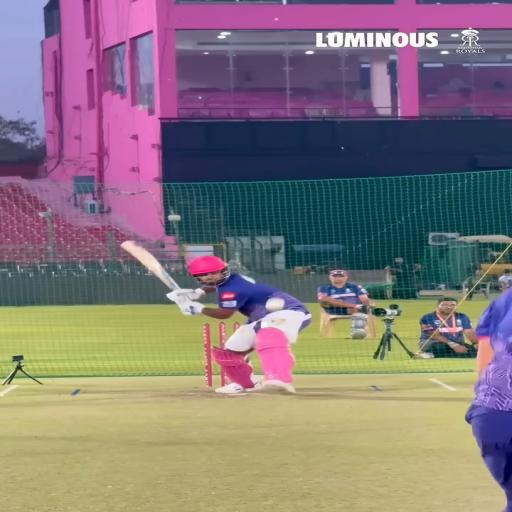Cricket bat: (121, 241, 178, 290)
